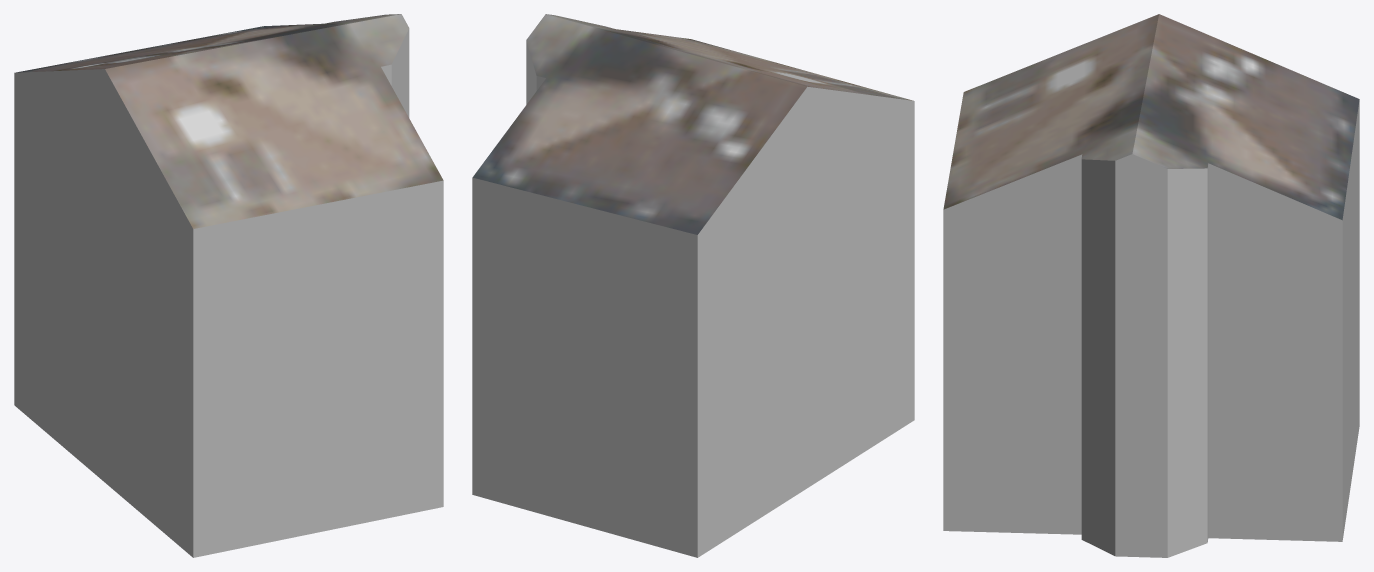
The model's file is DEBW_0010007Tx7F.gltf.
3 views of the same model, side by side, from view 1: azimuth 30°, elevation 25°; view 2: azimuth 150°, elevation 25°; view 3: azimuth 270°, elevation 25° (orthographic). The views are drawn at different scales.
Visible parts, largest first — view 1: Z_UP; view 2: Z_UP; view 3: Z_UP.
Part boxes in pixels (<box>): Z_UP: <box>14,14,443,557</box>; Z_UP: <box>472,14,914,557</box>; Z_UP: <box>943,14,1359,557</box>.
Size of the model in its own units: 10.28 by 13.71 by 12.71.
2 materials, 1 textured.
